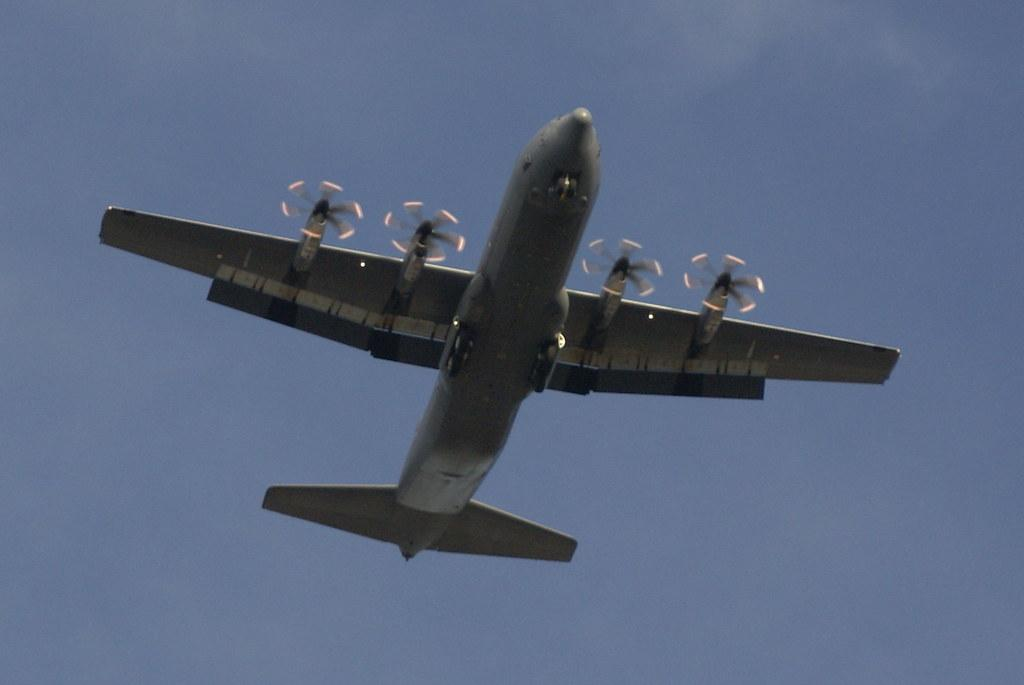plane: (98, 105, 902, 565)
